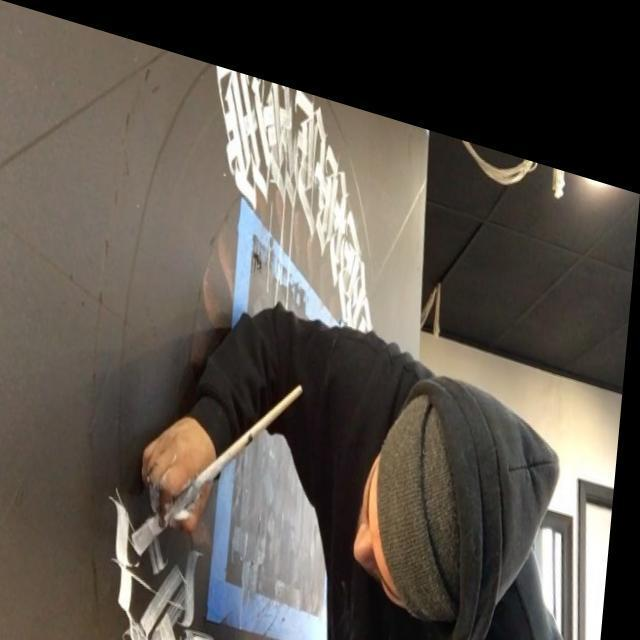-: (96, 437, 353, 640), (194, 50, 389, 308)
